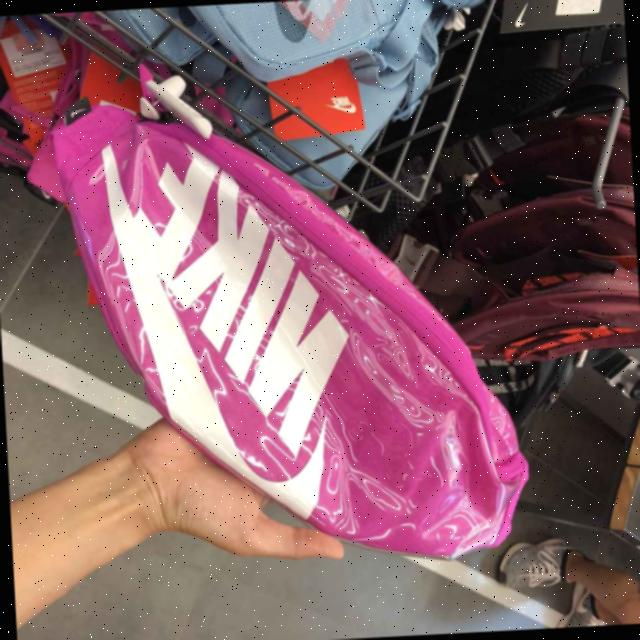Handbag: (17, 29, 544, 586)
